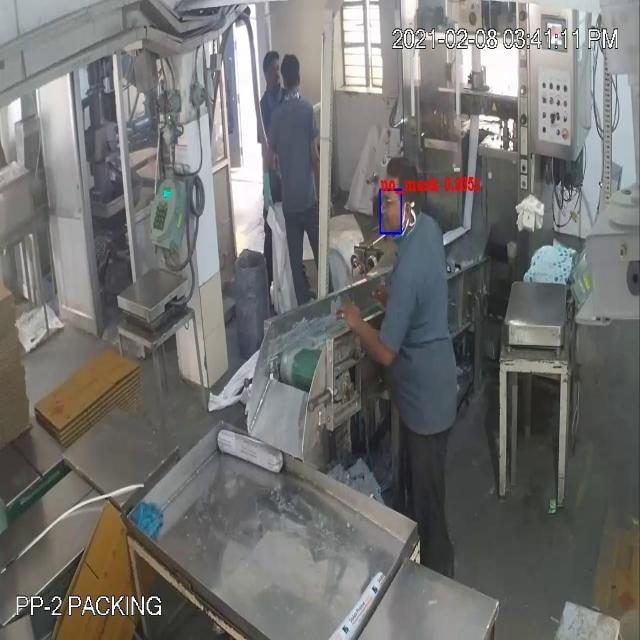No_Gloves: (325, 287, 401, 372)
